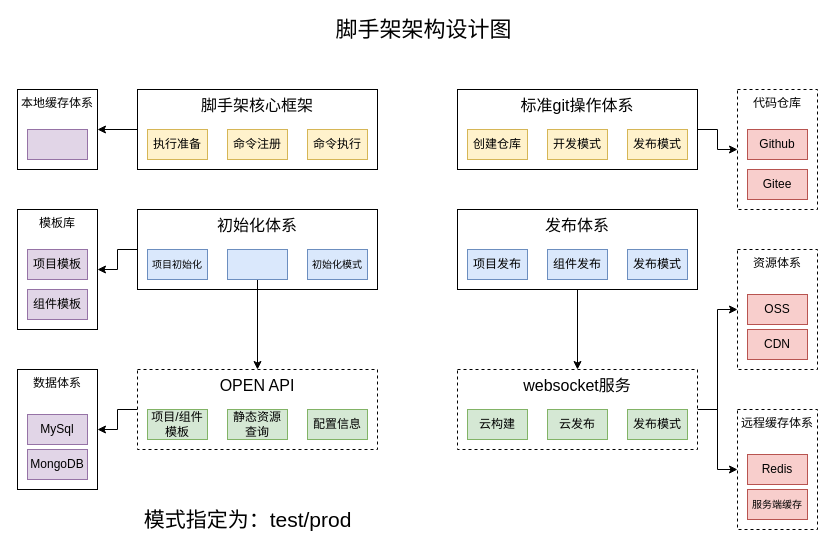
Image size: 835x549. Some labels were removed from this diagram. Each missing label, with the centre of its shape:
本地缓存&环境变量: point 57,144
组件初始化: point 257,264
